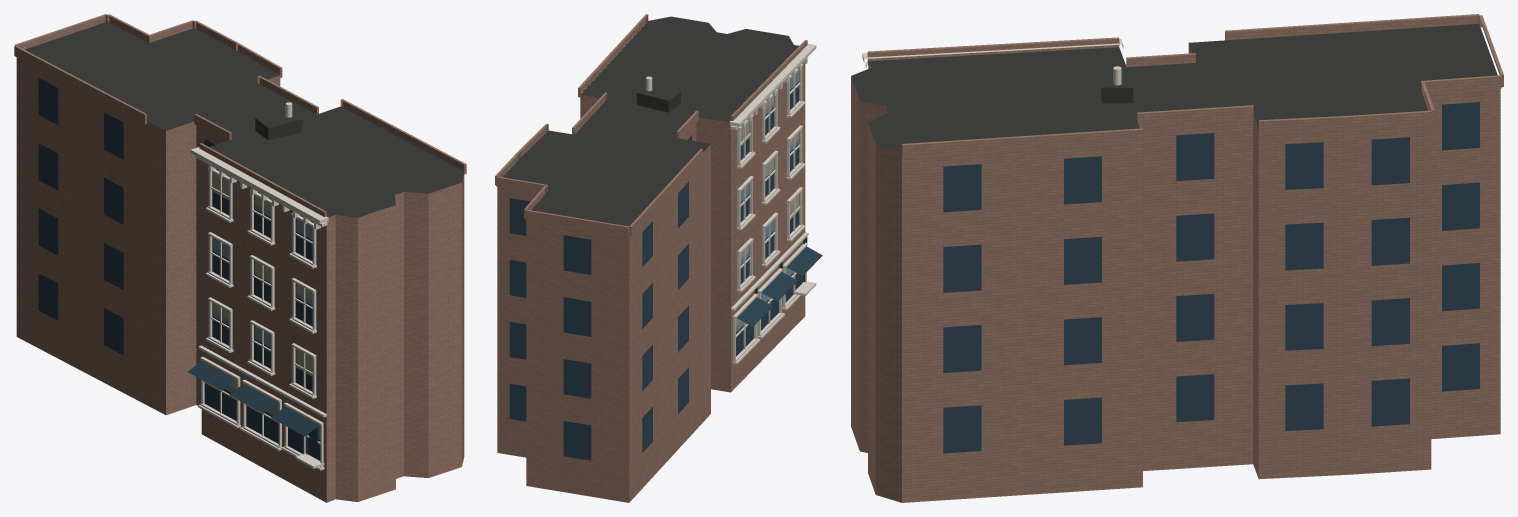
3 renders of one model, left to right at view 1: azimuth 30°, elevation 25°; view 2: azimuth 150°, elevation 25°; view 3: azimuth 270°, elevation 25°, orthographic. The views are drawn at different scales.
Parts seen in each view (by area): view 1: Footprint 0 / surface 2, Footprint 0 / surface 1, Cornices and window frames, Inset glazing, Facade bay volumes, Storefronts and doors, Interior blind variation, Sky reflection panels; view 2: Footprint 0 / surface 2, Footprint 0 / surface 1, Inset glazing, Cornices and window frames, Facade bay volumes, Storefronts and doors, Sky reflection panels, Interior blind variation, Inferred rooftop service enclosure / surface 6, Inferred rooftop service enclosure / surface 3; view 3: Footprint 0 / surface 2, Footprint 0 / surface 1, Inset glazing, Facade bay volumes.
Part boxes in pixels (left/top/right/bottom): Footprint 0 / surface 2: left=16, top=57, right=464, bottom=502; Footprint 0 / surface 1: left=25, top=21, right=464, bottom=217; Cornices and window frames: left=190, top=147, right=328, bottom=470; Inset glazing: left=38, top=78, right=320, bottom=460; Facade bay volumes: left=14, top=14, right=466, bottom=217; Storefronts and doors: left=187, top=350, right=319, bottom=454; Interior blind variation: left=213, top=172, right=312, bottom=388; Sky reflection panels: left=213, top=204, right=320, bottom=439; Footprint 0 / surface 2: left=497, top=63, right=805, bottom=502; Footprint 0 / surface 1: left=503, top=16, right=799, bottom=226; Inset glazing: left=509, top=70, right=803, bottom=460; Cornices and window frames: left=729, top=43, right=816, bottom=364; Facade bay volumes: left=495, top=14, right=807, bottom=236; Storefronts and doors: left=737, top=237, right=822, bottom=326; Sky reflection panels: left=736, top=70, right=798, bottom=332; Interior blind variation: left=736, top=96, right=798, bottom=326; Inferred rooftop service enclosure / surface 6: left=636, top=93, right=668, bottom=112; Inferred rooftop service enclosure / surface 3: left=637, top=84, right=680, bottom=100; Footprint 0 / surface 2: left=851, top=44, right=1500, bottom=502; Footprint 0 / surface 1: left=851, top=23, right=1497, bottom=152; Inset glazing: left=943, top=102, right=1479, bottom=453; Facade bay volumes: left=867, top=14, right=1503, bottom=157.
Bounding box in the file's own units: 11.67 × 15.83 × 24.53.
